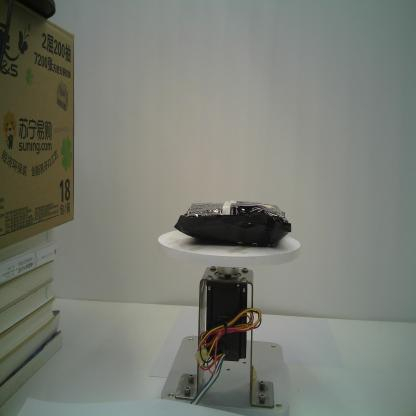Instant Noodles: (175, 199, 292, 248)
